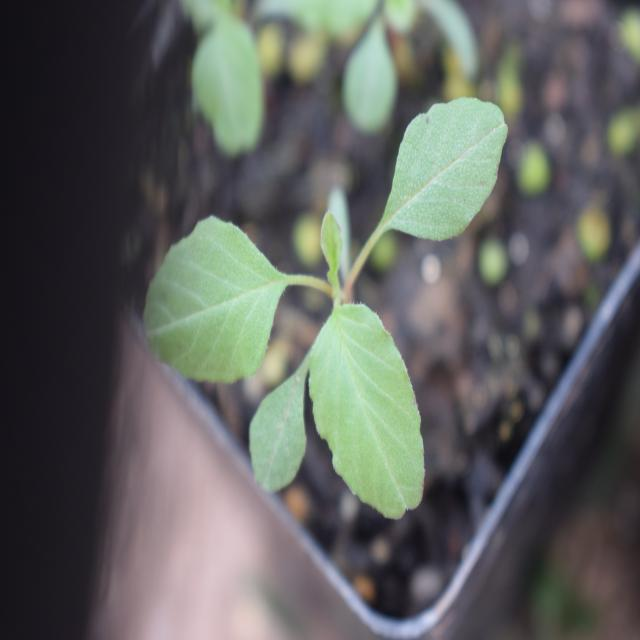pigweed: (167, 115, 507, 524)
